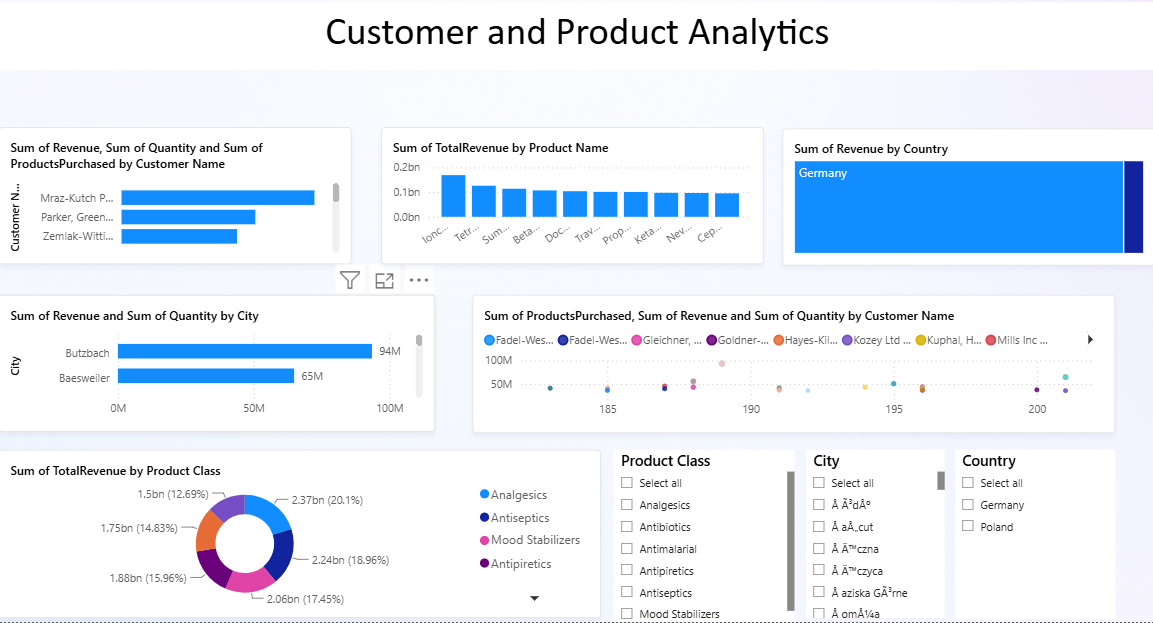

The page's visual inventory and layout, read from the dashboard file:
{"tool":"powerbi","page":{"name":"Page 2","canvas":[1280,720],"ordinal":1},"visuals":[{"type":"textbox","box":[9.9,39.4,1270.4,74.6],"z":0},{"type":"clusteredBarChart","fields":{"Category":["vw_customer_performance.Customer Name"],"Y":["Sum(vw_customer_performance.Revenue)"]},"box":[9.9,177.5,387.3,150.7],"z":1},{"type":"clusteredBarChart","fields":{"Category":["vw_customer_performance.City"],"Y":["Sum(vw_customer_performance.Revenue)"]},"box":[9.9,360.6,478.9,150.7],"z":2},{"type":"donutChart","fields":{"Category":["vw_product_performance.Product Class"],"Y":["Sum(vw_product_performance.TotalRevenue)"]},"box":[9.9,531,660.6,184.5],"z":3},{"type":"clusteredColumnChart","fields":{"Category":["vw_product_performance.Product Name"],"Y":["Sum(vw_product_performance.TotalRevenue)"]},"box":[429.6,177.5,419.7,150.7],"z":4},{"type":"treemap","fields":{"Group":["vw_customer_performance.Country"],"Values":["Sum(vw_customer_performance.Revenue)"]},"box":[870.4,178.9,409.9,150.7],"z":5},{"type":"scatterChart","fields":{"X":["Sum(vw_customer_performance.ProductsPurchased)"],"Y":["Sum(vw_customer_performance.Revenue)"],"Size":["Sum(vw_customer_performance.Quantity)"],"Series":["vw_customer_performance.Customer Name"]},"box":[529.6,360.6,705.6,152.1],"z":6},{"type":"slicer","fields":{"Values":["vw_customer_performance.Country"]},"box":[1059.2,531,176.1,185.9],"z":7},{"type":"slicer","fields":{"Values":["vw_customer_performance.City"]},"box":[895.8,531,152.1,184.5],"z":8},{"type":"slicer","fields":{"Values":["vw_product_performance.Product Class"]},"box":[684.5,531,198.6,188.7],"z":9},{"type":"actionButton","box":[0,0,100,40],"z":10}]}

Visuals, with their boxes on the page's 1280x720 design canvas (x1, y1, x2, y2). These are canvas units, not pixel positions in the 1153x623 screenshot, which may show the page scaled, cropped or inside an application window:
textbox: box=[10, 39, 1280, 114]
clusteredBarChart - vw_customer_performance.Customer Name x Sum(vw_customer_performance.Revenue): box=[10, 178, 397, 328]
clusteredBarChart - vw_customer_performance.City x Sum(vw_customer_performance.Revenue): box=[10, 361, 489, 511]
donutChart - vw_product_performance.Product Class x Sum(vw_product_performance.TotalRevenue): box=[10, 531, 670, 716]
clusteredColumnChart - vw_product_performance.Product Name x Sum(vw_product_performance.TotalRevenue): box=[430, 178, 849, 328]
treemap - vw_customer_performance.Country x Sum(vw_customer_performance.Revenue): box=[870, 179, 1280, 330]
scatterChart - Sum(vw_customer_performance.ProductsPurchased) x Sum(vw_customer_performance.Revenue): box=[530, 361, 1235, 513]
slicer - vw_customer_performance.Country: box=[1059, 531, 1235, 717]
slicer - vw_customer_performance.City: box=[896, 531, 1048, 716]
slicer - vw_product_performance.Product Class: box=[684, 531, 883, 720]
actionButton: box=[0, 0, 100, 40]
